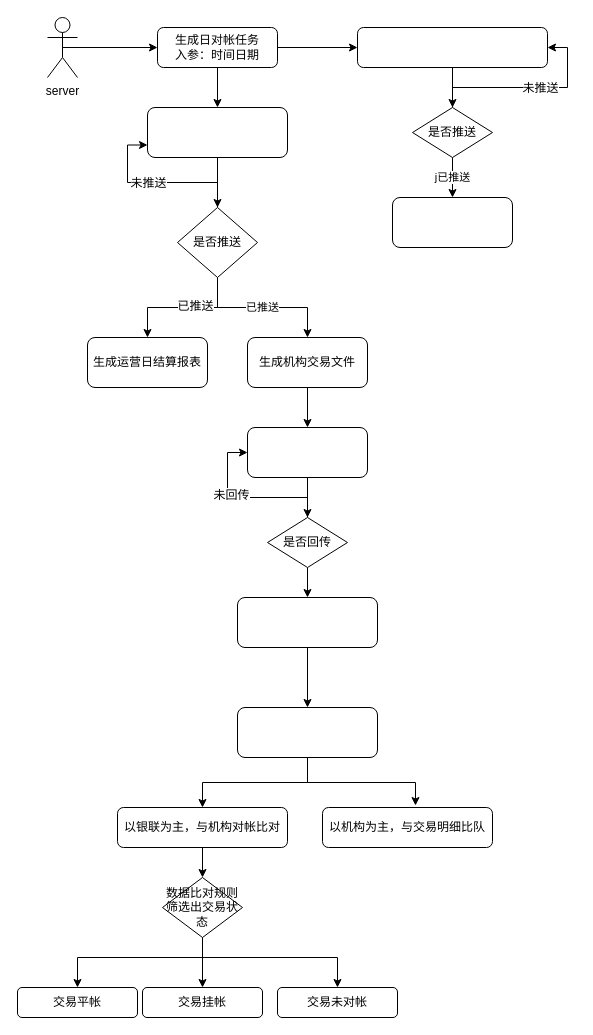
Some shapes in this 593 by 1035 pixel diagram are drawn without their labels. Here are the shapes that lost their labels. From the top down, the box of each, then its label:
(356, 26, 548, 68): 生成监听通联通结算文件推送任务
(146, 106, 288, 158): 生成监听银联交易文件推送任务
(392, 196, 512, 248): 生成机构结算报表
(246, 426, 368, 478): 生成监听多机构回传对帐文件任务
(236, 596, 378, 648): 生成机构交易日汇总报表
(236, 706, 378, 758): 生成交易明细与机构对帐文件比对任务
